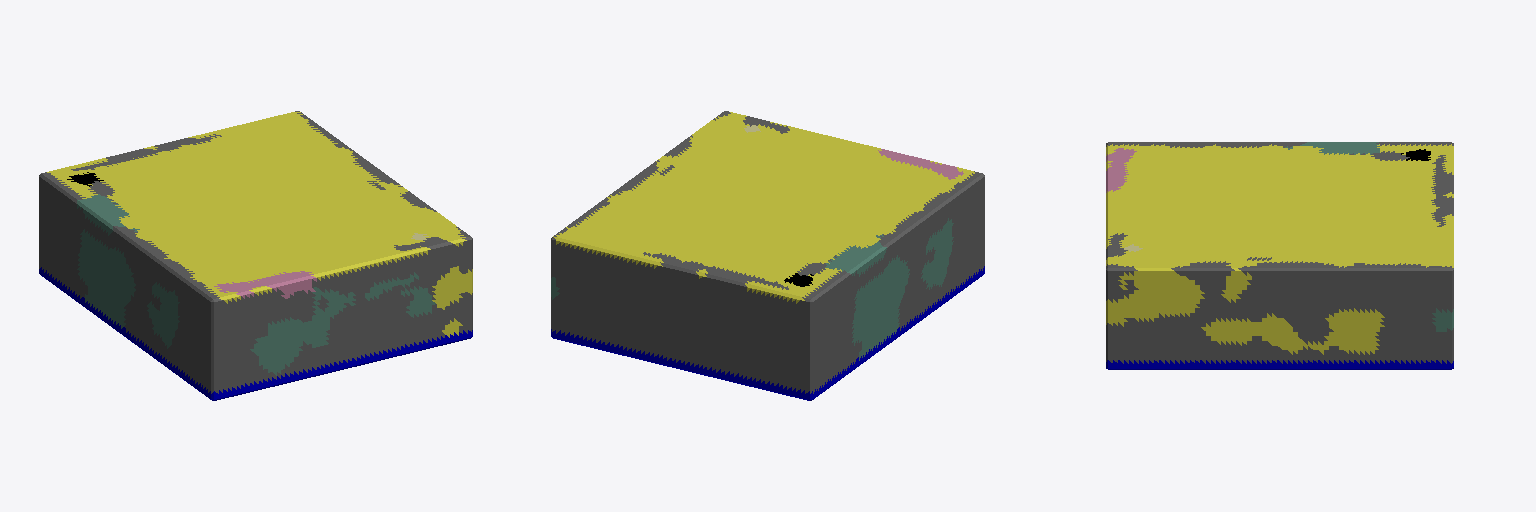
3 views of the same model, side by side, from view 1: azimuth 30°, elevation 25°; view 2: azimuth 150°, elevation 25°; view 3: azimuth 270°, elevation 25° (orthographic).
Parts seen in each view (by area): view 1: Input_prediction_mesh; view 2: Input_prediction_mesh; view 3: Input_prediction_mesh.
Boxes of the visible parts, <box> form: Input_prediction_mesh: <box>39,111,472,400</box>; Input_prediction_mesh: <box>551,111,984,400</box>; Input_prediction_mesh: <box>1106,142,1453,369</box>.
Bounding box in the file's own units: 4.72 × 1.76 × 5.44.